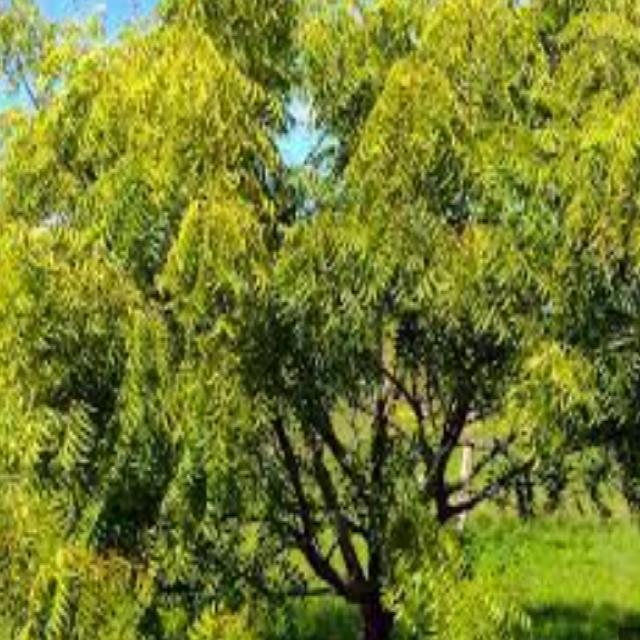Neem-Tree: (26, 23, 639, 431)
